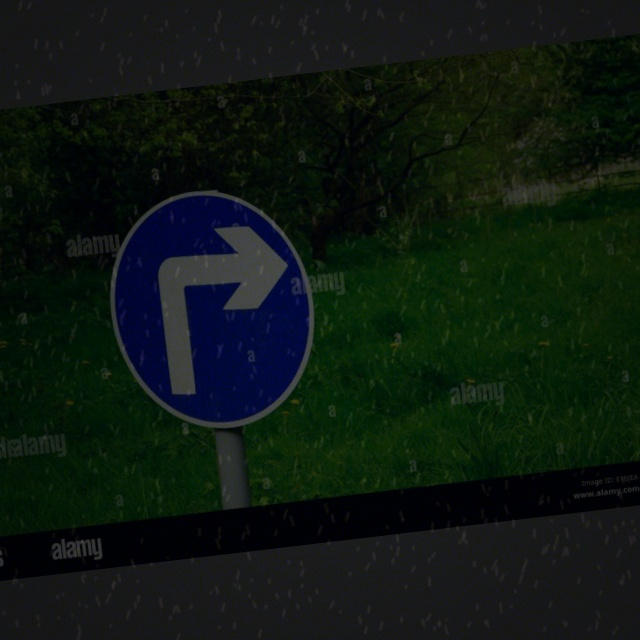Compulsory_Turn_Right_Ahead: (96, 175, 330, 442)
